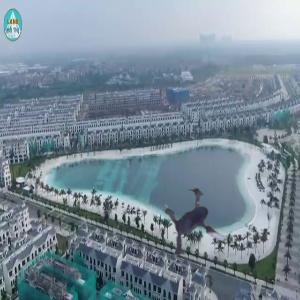drone: (149, 177, 259, 287)
